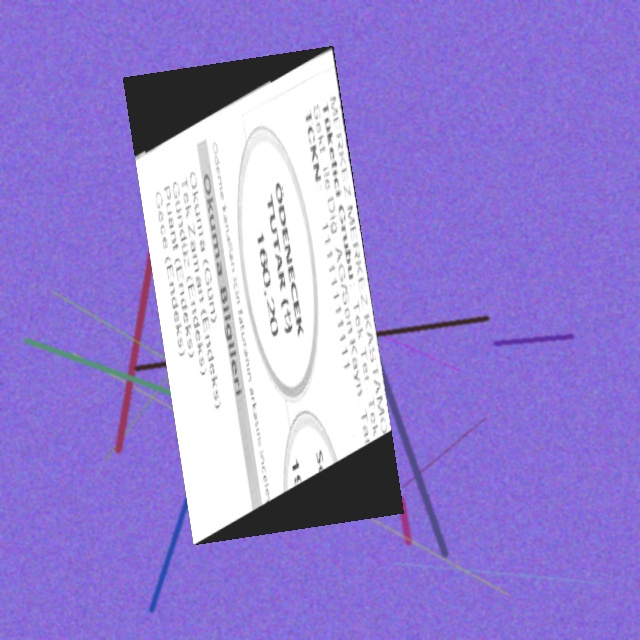electricity-bill: (123, 46, 404, 545)
